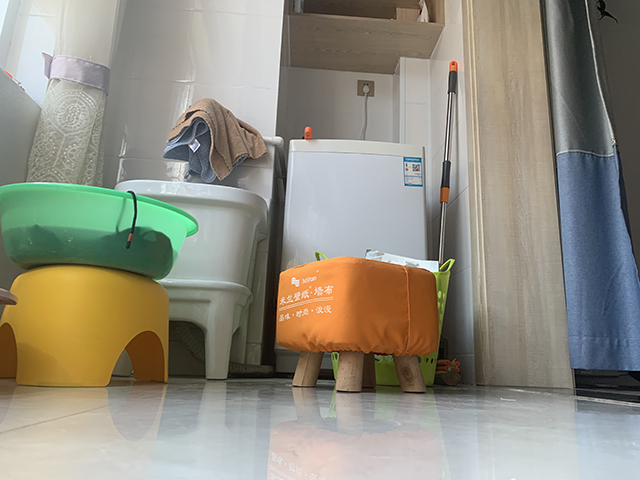curtain: (541, 1, 640, 372)
stool: (275, 255, 441, 395), (1, 265, 172, 389)
